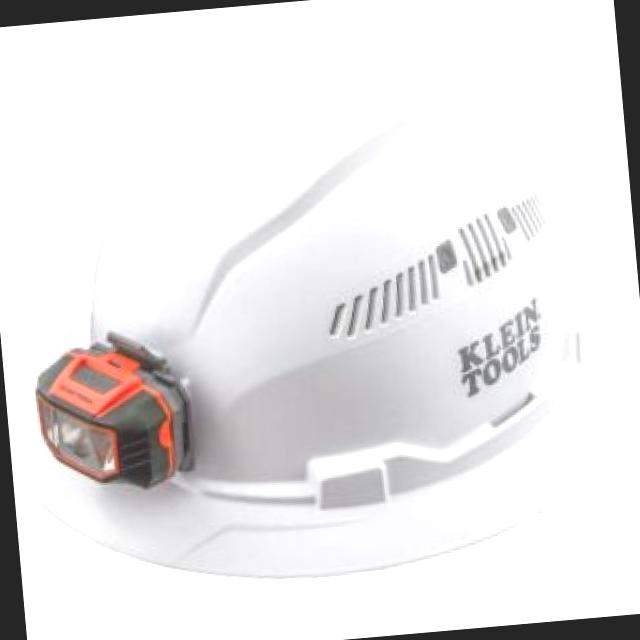helmet: (24, 44, 624, 568)
